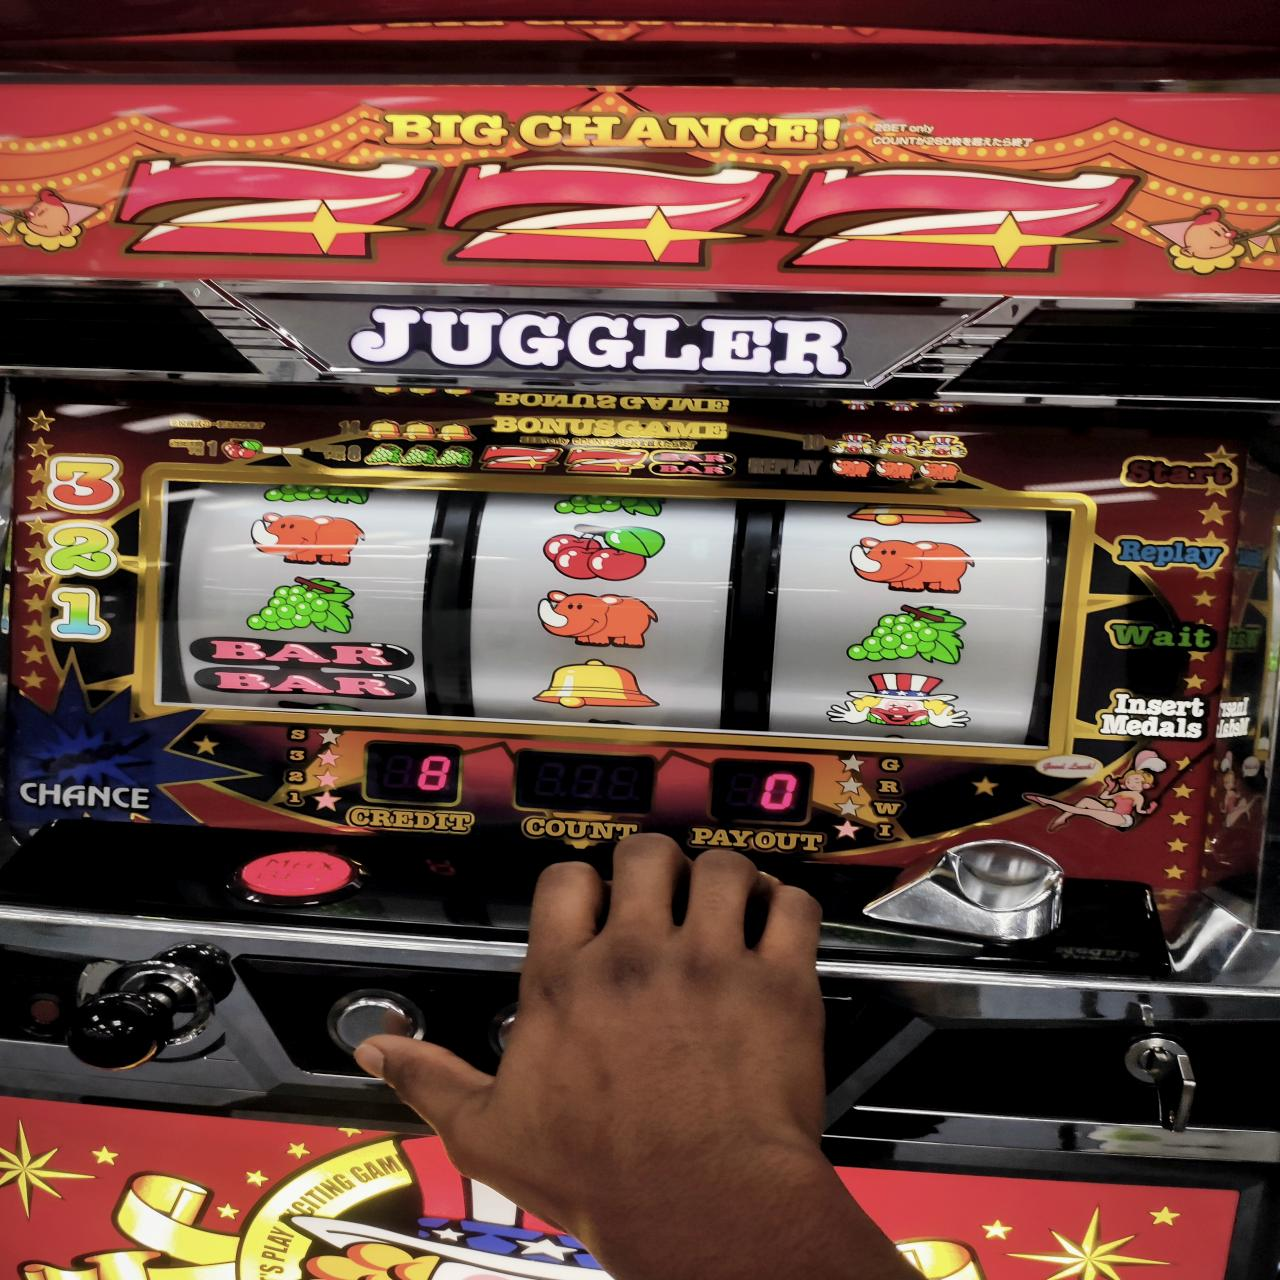8: (536, 591, 661, 652), (851, 536, 978, 594), (245, 511, 368, 567)
Display: (159, 476, 1050, 750)
bar: (182, 632, 421, 702)
bell: (532, 656, 663, 713)
cherry: (543, 520, 668, 581)
clown: (823, 669, 971, 733)
grape: (843, 604, 971, 666), (243, 572, 362, 634)
